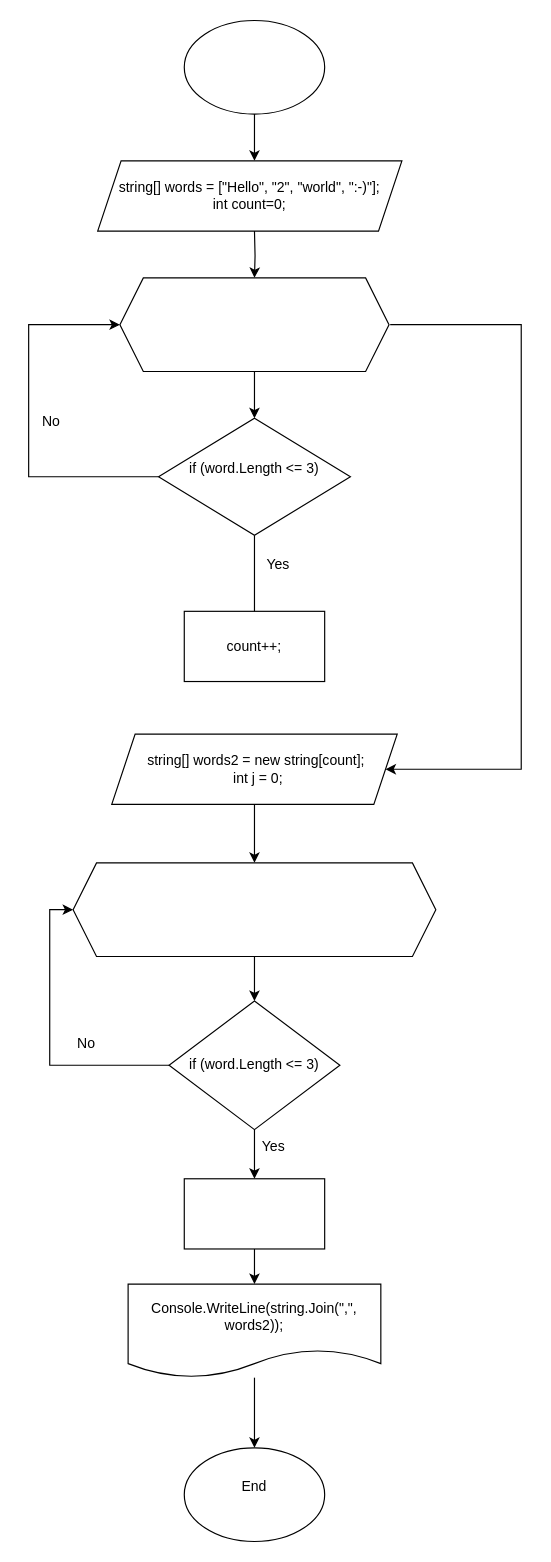
The diagram is 551 pixels wide and 1562 high, and some of its shapes have lost their labels. The shapes that lost their labels are listed below. From the top down, each one's centre as x and y in pixels, then its label:
(x=254, y=66): Start
(x=254, y=324): for(int i=0;i<worlds.Length;i++;
(x=254, y=909): for (int i = 0; i < words.Length; i++) string word = words[i]
(x=254, y=1213): words2[j] = word; j++;
